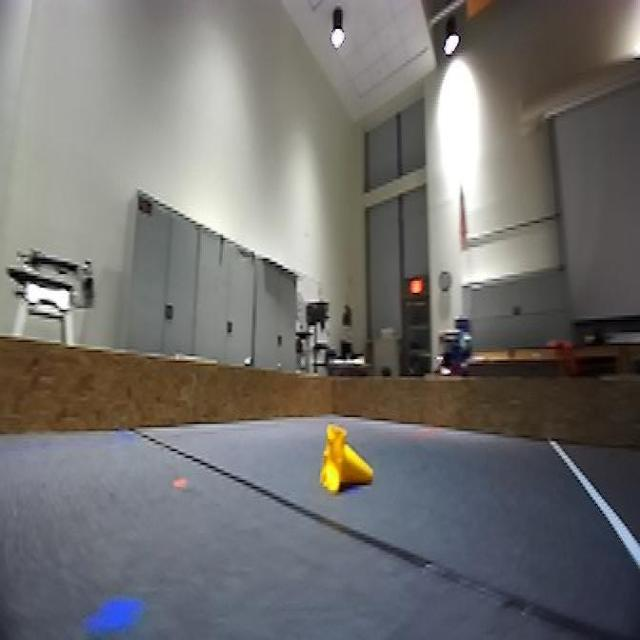frc_cone: (318, 426, 372, 497)
